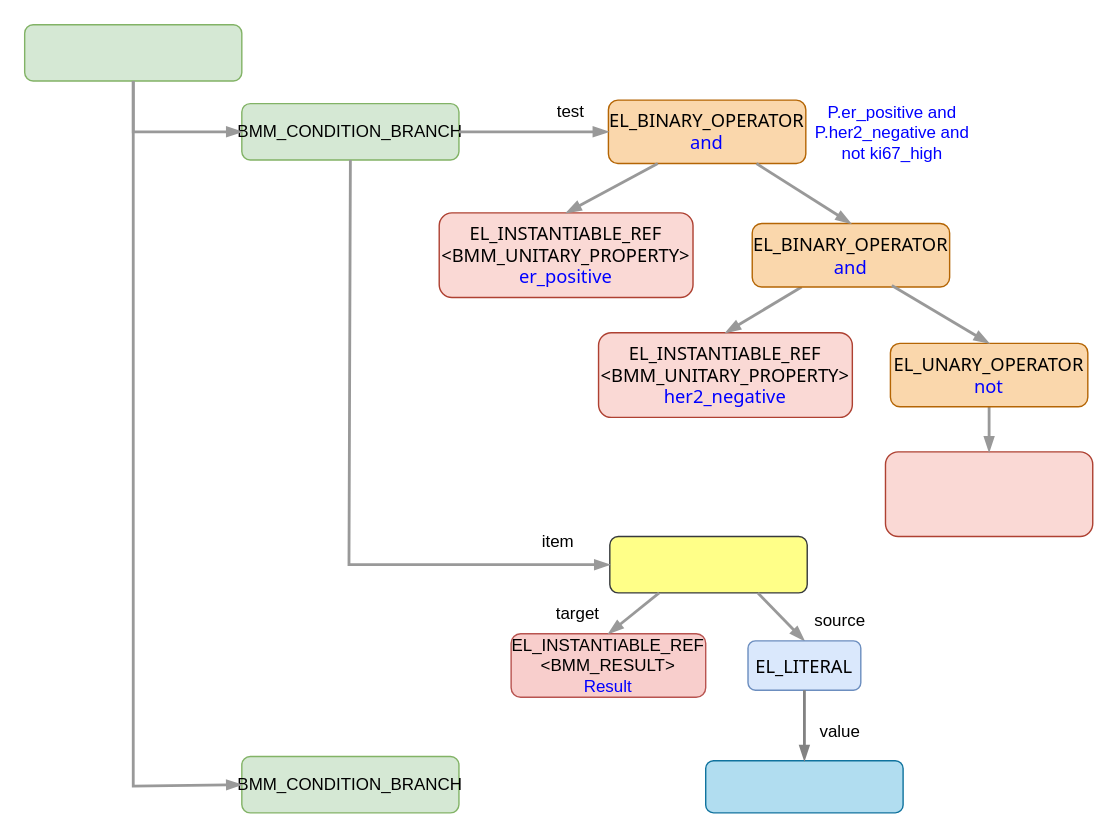
This 1118x838 diagram has some shape labels left out. The box of each missing label's shape, as (x1, y1, x2, y2) in pixels:
BMM_ASSIGNMENT Result := |Luminal A|: (608, 535, 807, 593)
BMM_CONDITION_CHAIN: (23, 23, 242, 81)
BMM_LITERAL_VALUE '|Luminal A|': (704, 759, 903, 813)
EL_INSTANTIABLE_REF <BMM_CONSTANT> ki67_high: (884, 450, 1093, 537)
